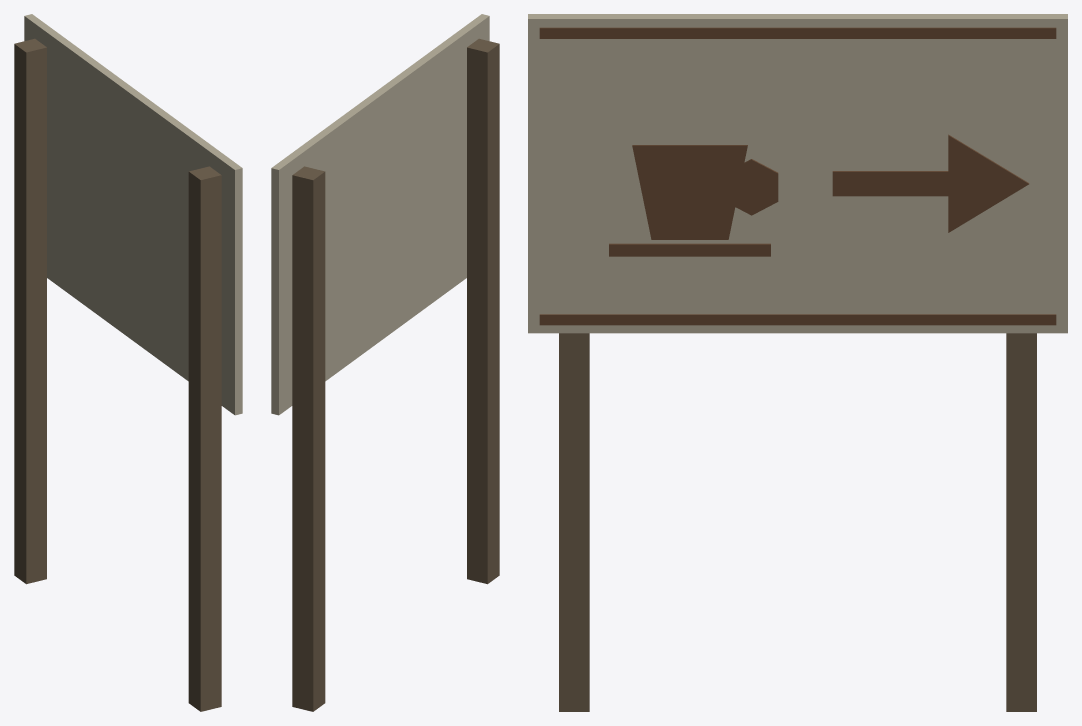
Rendered from SM_Prop_road_cafesign_0_LOD1.glb.
The picture shows the model from 3 angles, left to right: view 1: azimuth 30°, elevation 25°; view 2: azimuth 150°, elevation 25°; view 3: azimuth 270°, elevation 25°; orthographic projection. The views are drawn at different scales.
Visible parts, largest first — view 1: SM_Prop_road_cafesign_0_LOD1; view 2: SM_Prop_road_cafesign_0_LOD1; view 3: SM_Prop_road_cafesign_0_LOD1.
Part boxes in pixels (x1,y1,x2,y2): SM_Prop_road_cafesign_0_LOD1: (14,14,242,711); SM_Prop_road_cafesign_0_LOD1: (271,14,499,711); SM_Prop_road_cafesign_0_LOD1: (528,14,1067,711).
Size of the model in its own units: 0.122 by 2 by 1.4.
